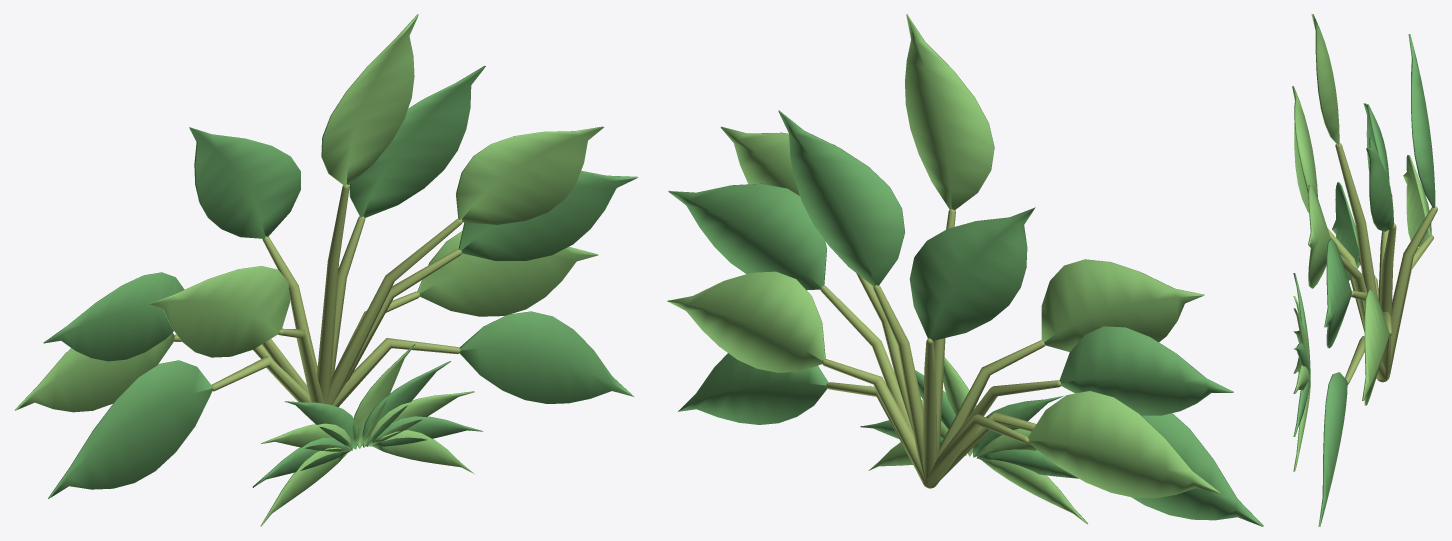
Rendered from bg_jungle_plant.glb.
The picture shows the model from 3 angles, left to right: view 1: azimuth 30°, elevation 25°; view 2: azimuth 150°, elevation 25°; view 3: azimuth 270°, elevation 25°; orthographic projection. The views are drawn at different scales.
Visible parts, largest first — view 1: bg_jungle_plant; view 2: bg_jungle_plant; view 3: bg_jungle_plant.
Part boxes in pixels (x1,y1,x2,y2): bg_jungle_plant: [14, 14, 638, 526]; bg_jungle_plant: [667, 14, 1263, 526]; bg_jungle_plant: [1292, 14, 1437, 526].
Size of the model in its own units: 2.61 by 1.98 by 0.5993.
